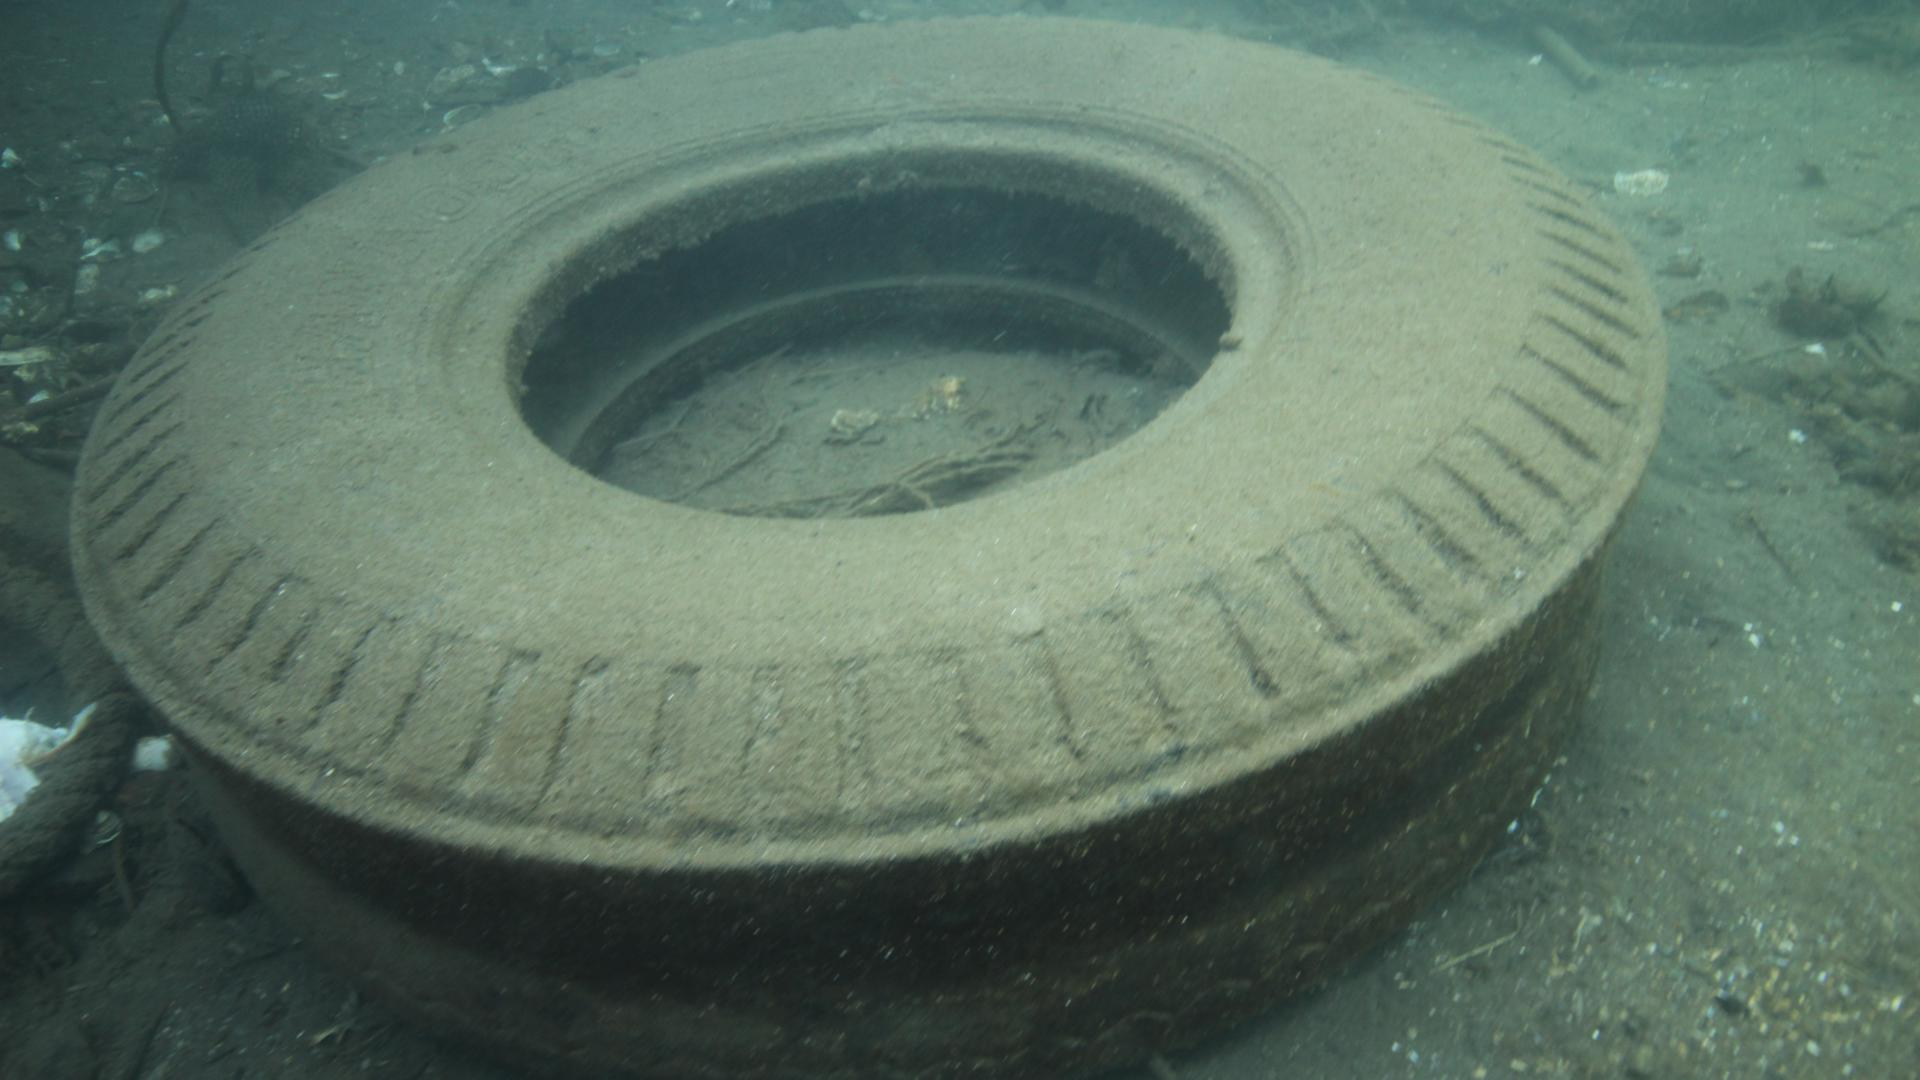tire: (70, 11, 1671, 1080)
